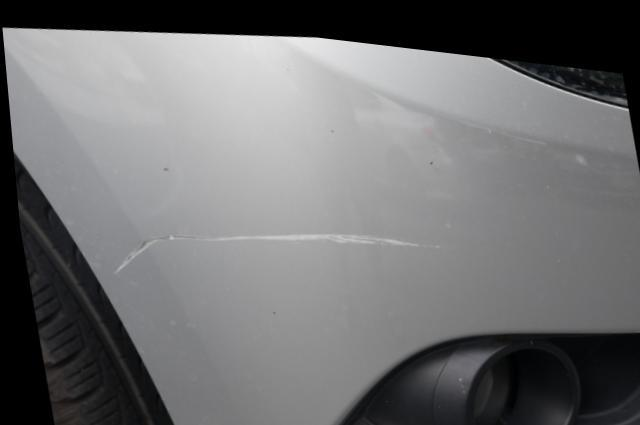scratch: (103, 225, 435, 275)
